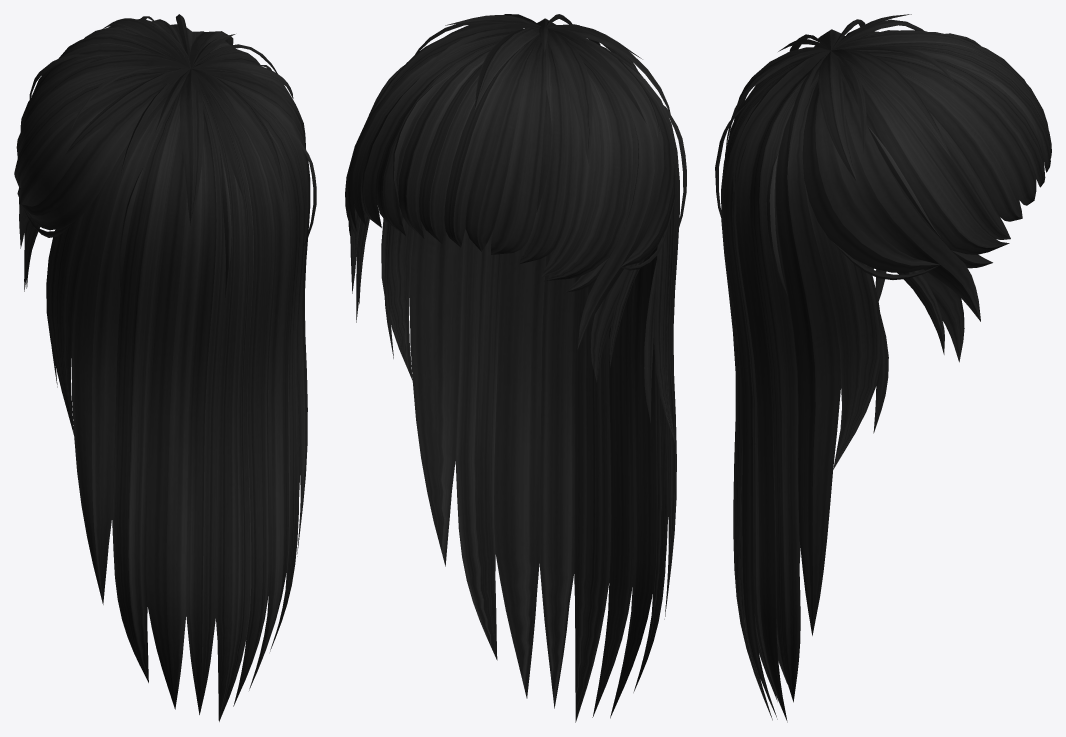
The picture shows the model from 3 angles, left to right: view 1: azimuth 30°, elevation 25°; view 2: azimuth 150°, elevation 25°; view 3: azimuth 270°, elevation 25°; orthographic projection. The views are drawn at different scales.
Parts seen in each view (by area): view 1: geometry_0; view 2: geometry_0; view 3: geometry_0.
Part boxes in pixels (left/top/right/bottom): geometry_0: left=14, top=14, right=316, bottom=721; geometry_0: left=345, top=14, right=686, bottom=722; geometry_0: left=715, top=14, right=1051, bottom=722.
Bounding box in the file's own units: 1.33 × 3.36 × 1.48.
1 material, 1 textured.
